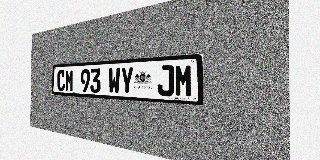3: (90, 68, 101, 93)
9: (80, 69, 90, 92)
C: (57, 70, 65, 91)
J: (157, 65, 174, 96)
M: (175, 64, 193, 97), (65, 69, 74, 92)
W: (108, 67, 120, 94)
Y: (121, 67, 134, 95)
